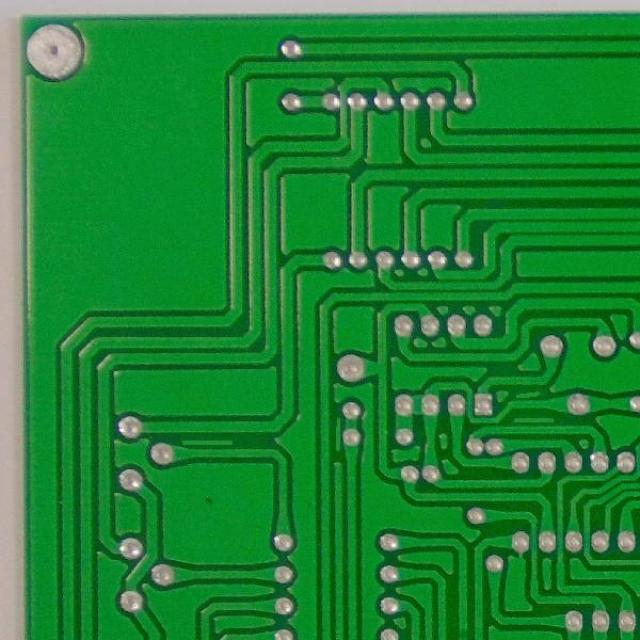Spurious_Cooper: (177, 436, 236, 450), (510, 414, 558, 427), (513, 388, 544, 402)
